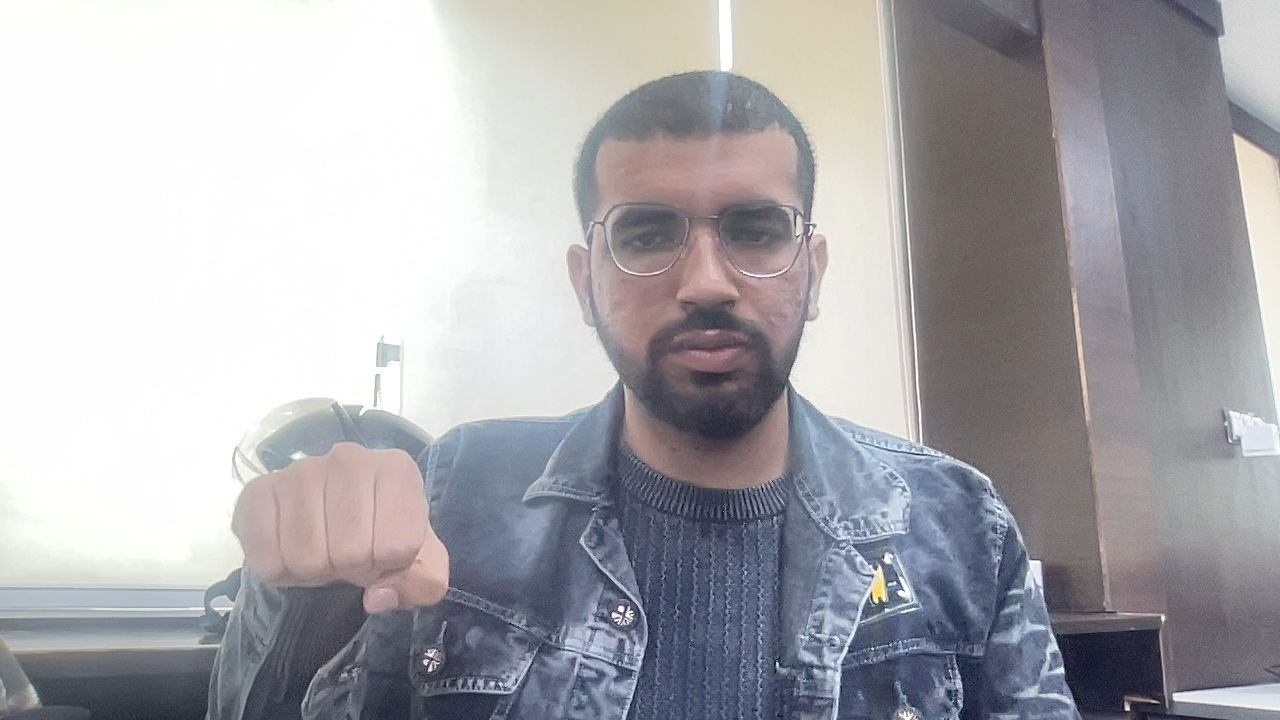Yes: (178, 411, 471, 647)
